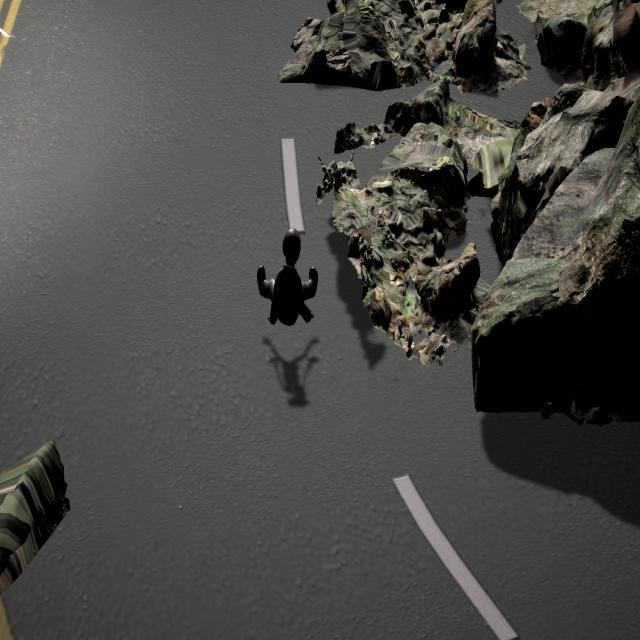Human: (255, 220, 322, 330)
